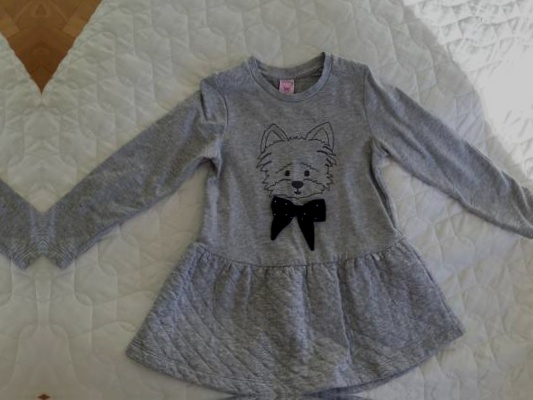Dress: (52, 63, 533, 388), (0, 67, 33, 392)
